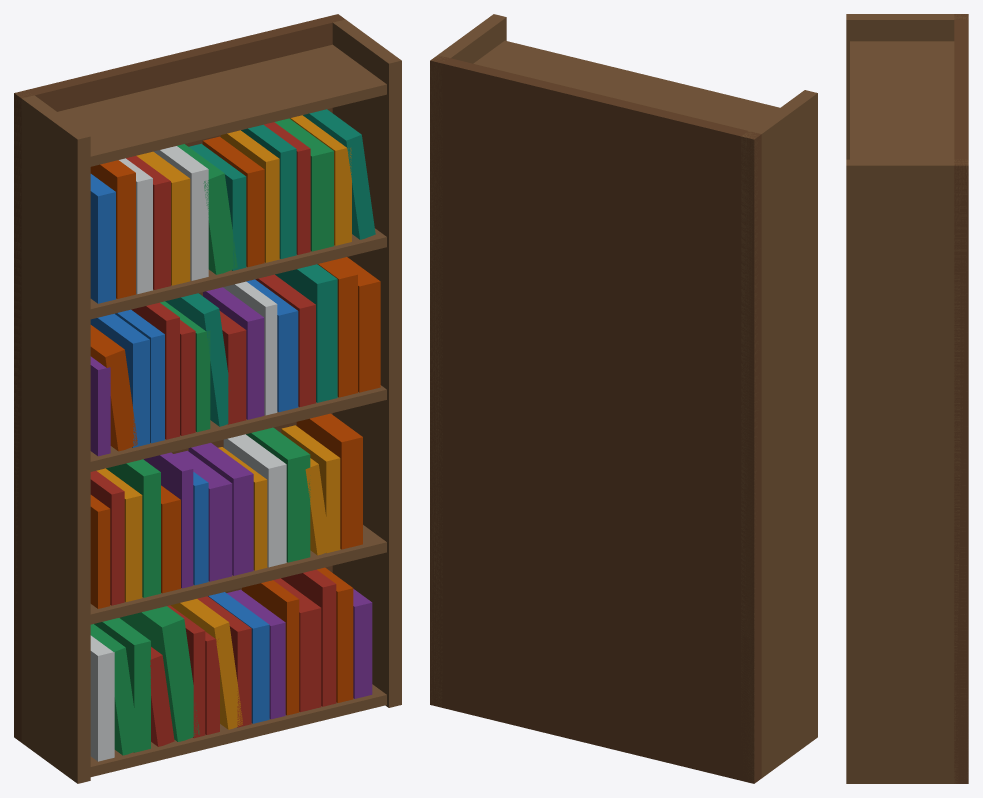
File: bookshelf.glb
The picture shows the model from 3 angles, left to right: view 1: azimuth 30°, elevation 25°; view 2: azimuth 150°, elevation 25°; view 3: azimuth 270°, elevation 25°; orthographic projection. The views are drawn at different scales.
Parts seen in each view (by area): view 1: main; view 2: main; view 3: main.
Boxes of the visible parts, <box> form: main: <box>14,14,401,783</box>; main: <box>430,14,817,783</box>; main: <box>846,14,968,783</box>.
Bounding box in the file's own units: 1 × 1.9 × 0.34.
